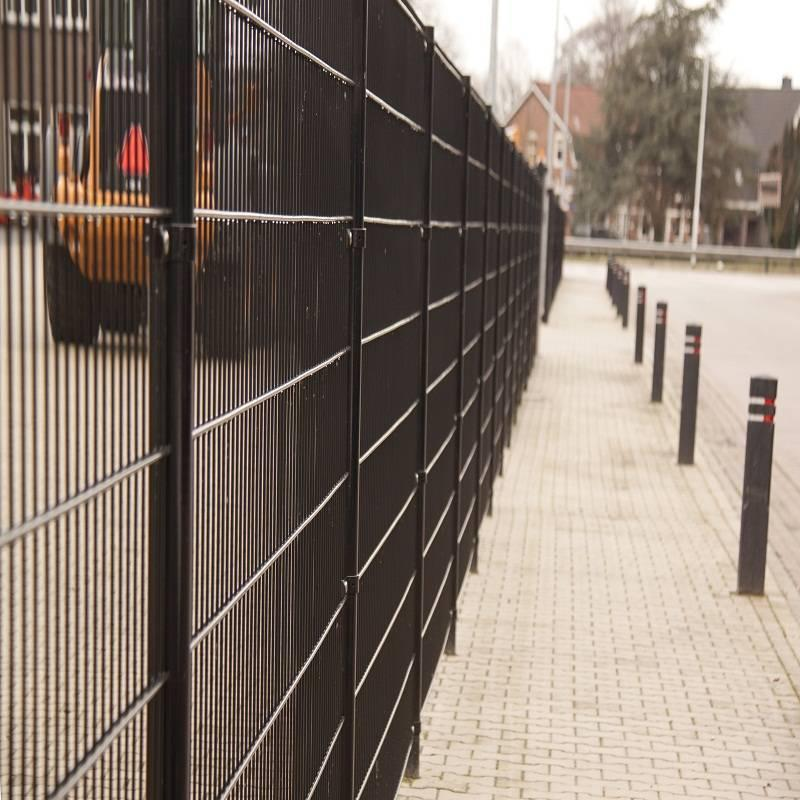obstacle: (41, 53, 688, 797)
